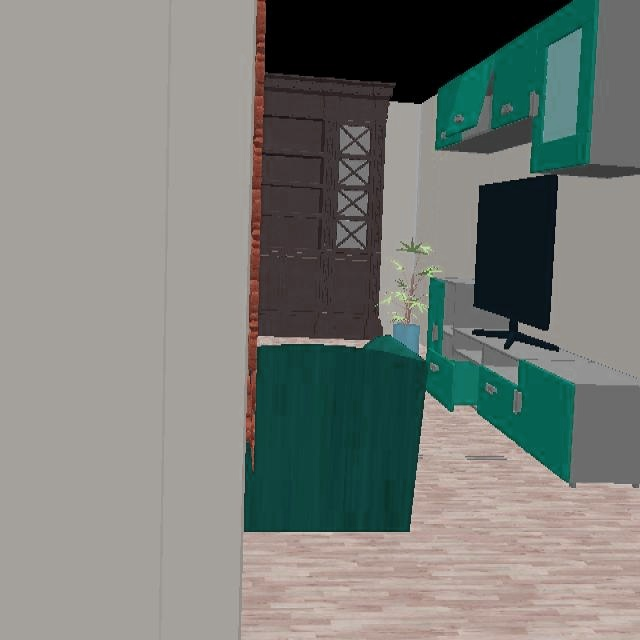bookshelf: (255, 72, 393, 344)
cabinet: (426, 277, 640, 483), (435, 0, 640, 175)
monitor: (473, 175, 559, 353)
sofa: (243, 337, 428, 535)
